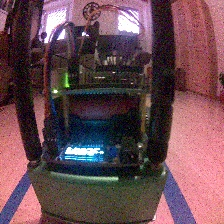rob: (26, 34, 169, 224)
